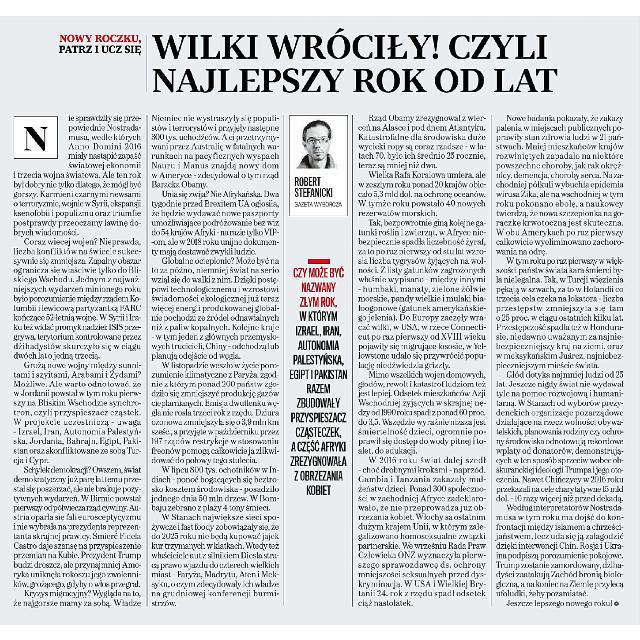author: (292, 174, 336, 198)
body: (9, 110, 143, 610), (150, 113, 284, 612), (355, 113, 489, 612), (494, 112, 628, 610), (287, 257, 349, 501)
title: (150, 28, 570, 98)
